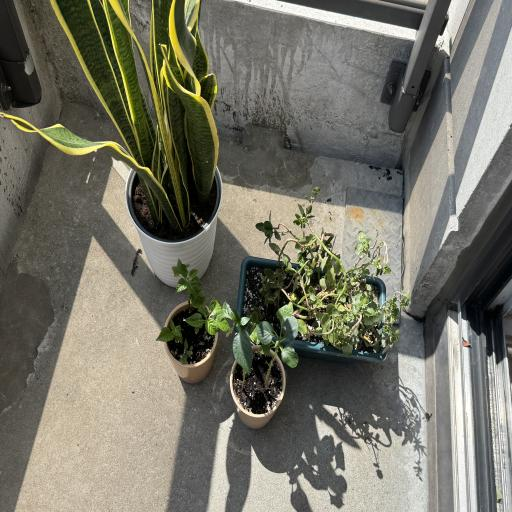Plant Pot: (126, 146, 224, 282), (163, 300, 218, 383), (231, 349, 287, 430)
